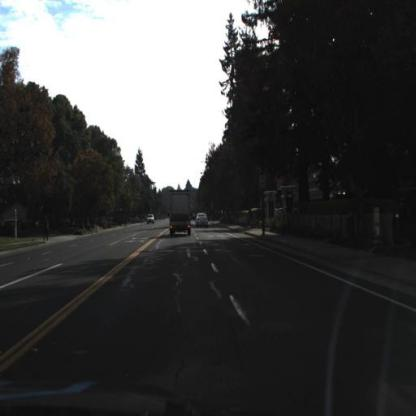car: (195, 210, 211, 231), (146, 213, 157, 226), (146, 210, 155, 224)
pedestrian: (42, 213, 49, 244)
truck: (168, 189, 195, 240)
